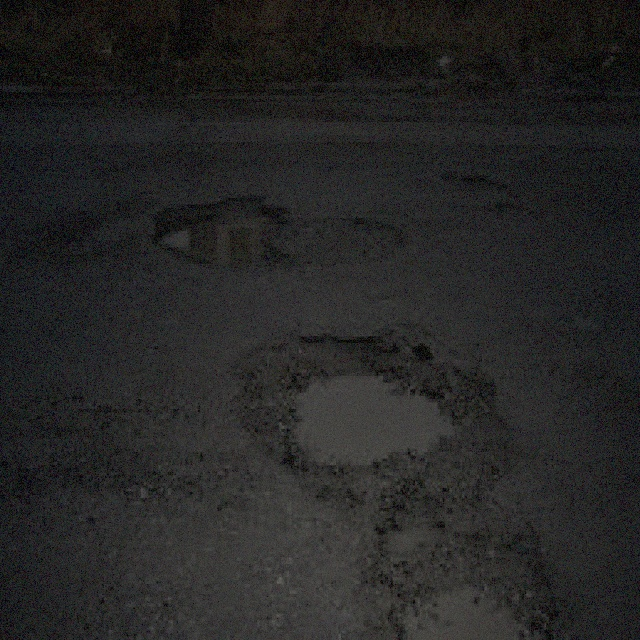pothole: (264, 323, 445, 472), (156, 171, 279, 264), (438, 152, 526, 228)
